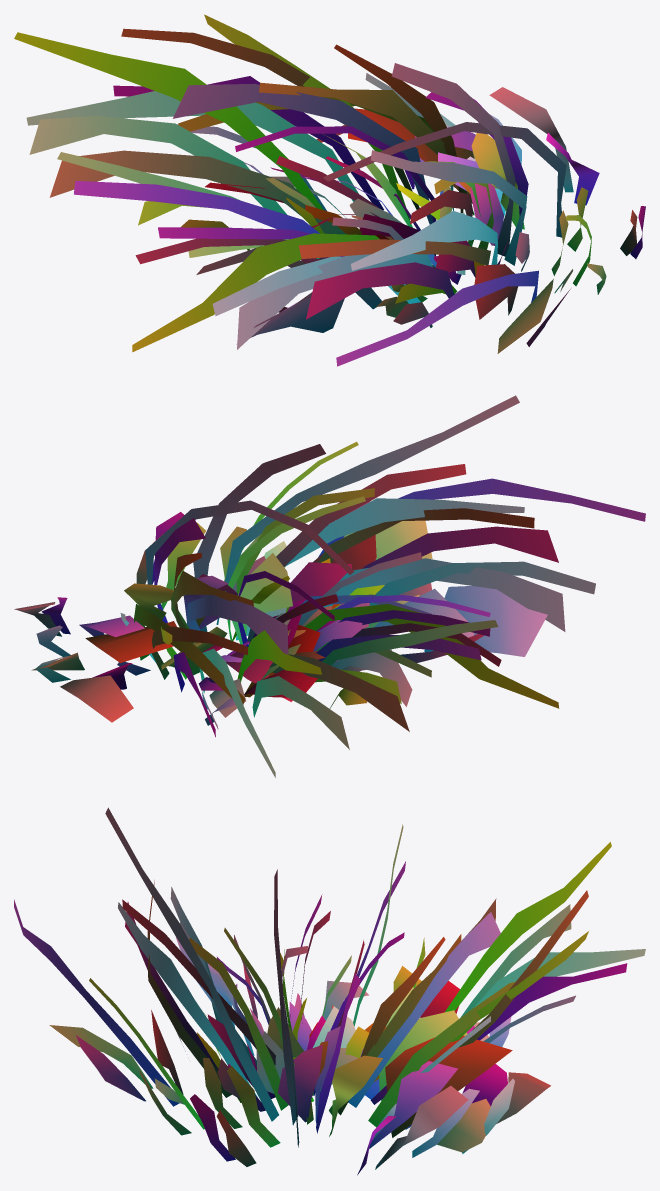
File: Wild_Grass_vdilbaiia_Mid_vdilbaiia_VarG_LOD1.fbx
3 renders of one model, top to bottom at view 1: azimuth 30°, elevation 25°; view 2: azimuth 150°, elevation 25°; view 3: azimuth 270°, elevation 25°, orthographic. The views are drawn at different scales.
Visible parts, largest first — view 1: _gs0x_VarG_LOD2; view 2: _gs0x_VarG_LOD2; view 3: _gs0x_VarG_LOD2.
Boxes of the visible parts, x1=… form: _gs0x_VarG_LOD2: x1=14, y1=14, x2=645, y2=366; _gs0x_VarG_LOD2: x1=14, y1=395, x2=645, y2=777; _gs0x_VarG_LOD2: x1=14, y1=807, x2=645, y2=1175.
Bounding box in the file's own units: 48.66 × 22.06 × 57.79.
